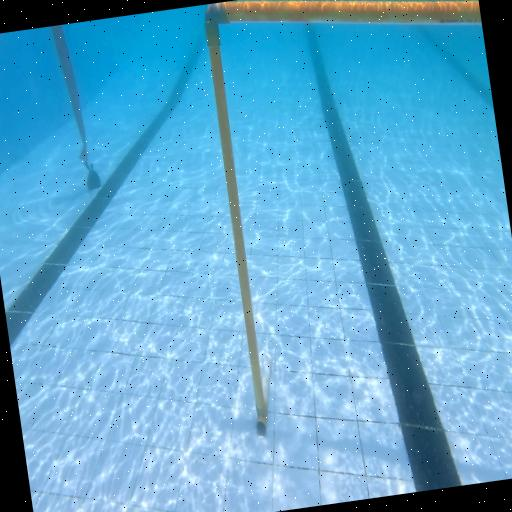gate: (197, 0, 512, 435)
